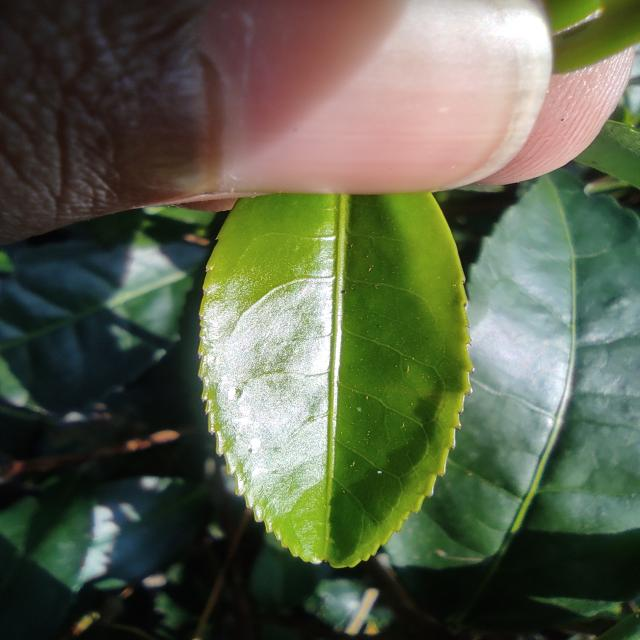Category C 4-7 days: (193, 138, 481, 580)
